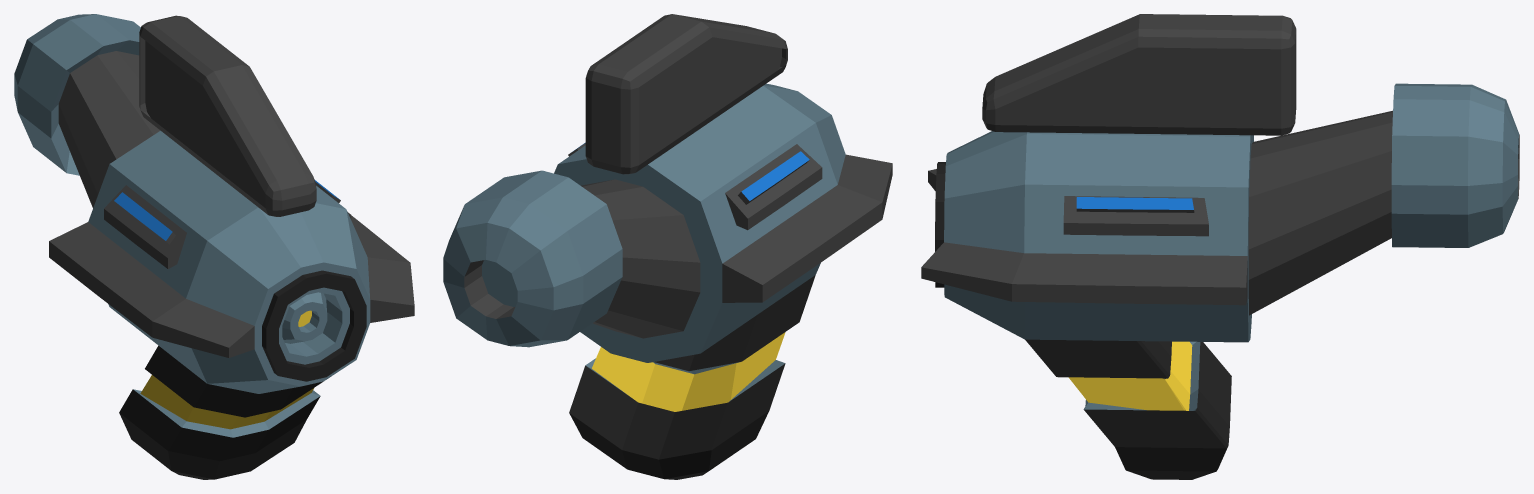
Rendered from Drone.fbx.
The picture shows the model from 3 angles, left to right: view 1: azimuth 30°, elevation 25°; view 2: azimuth 150°, elevation 25°; view 3: azimuth 270°, elevation 25°; orthographic projection. The views are drawn at different scales.
Visible parts, largest first — view 1: Cube.081; view 2: Cube.081; view 3: Cube.081.
Part boxes in pixels (bbox=[...]): Cube.081: bbox=[14, 14, 414, 479]; Cube.081: bbox=[443, 14, 892, 479]; Cube.081: bbox=[921, 14, 1519, 479].
Bounding box in the file's own units: 0.5102 × 0.7725 × 0.9377.
